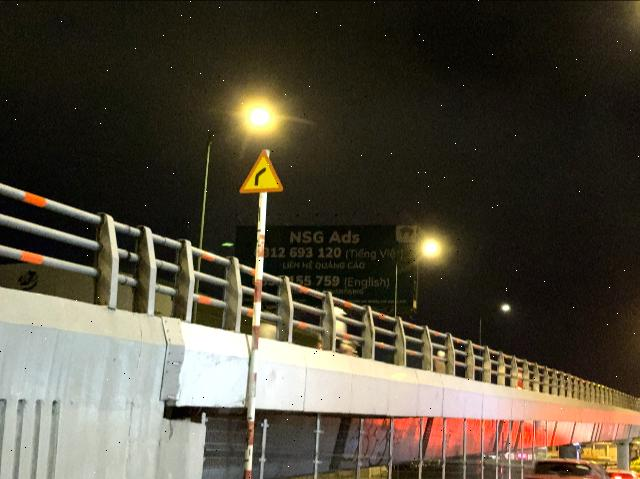cho-ngoat-nguy-hiem-ben-phai: (238, 148, 284, 194)
